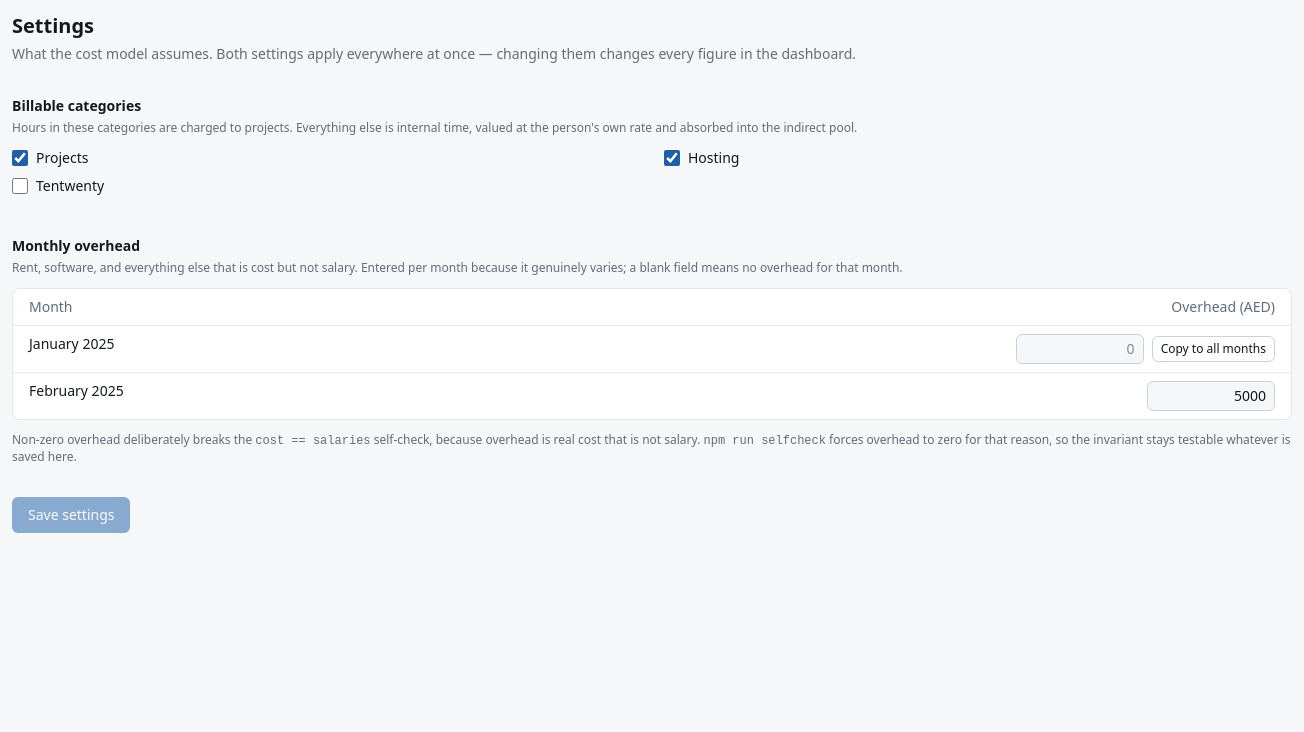
Test: saving › sends the unchecked category as an absence and confirms the save
What coordinates should you click on to do the following:
click the checkbox labelled "Hosting"
I would click on:
 (672, 158)
Its box is [664, 150, 680, 166].
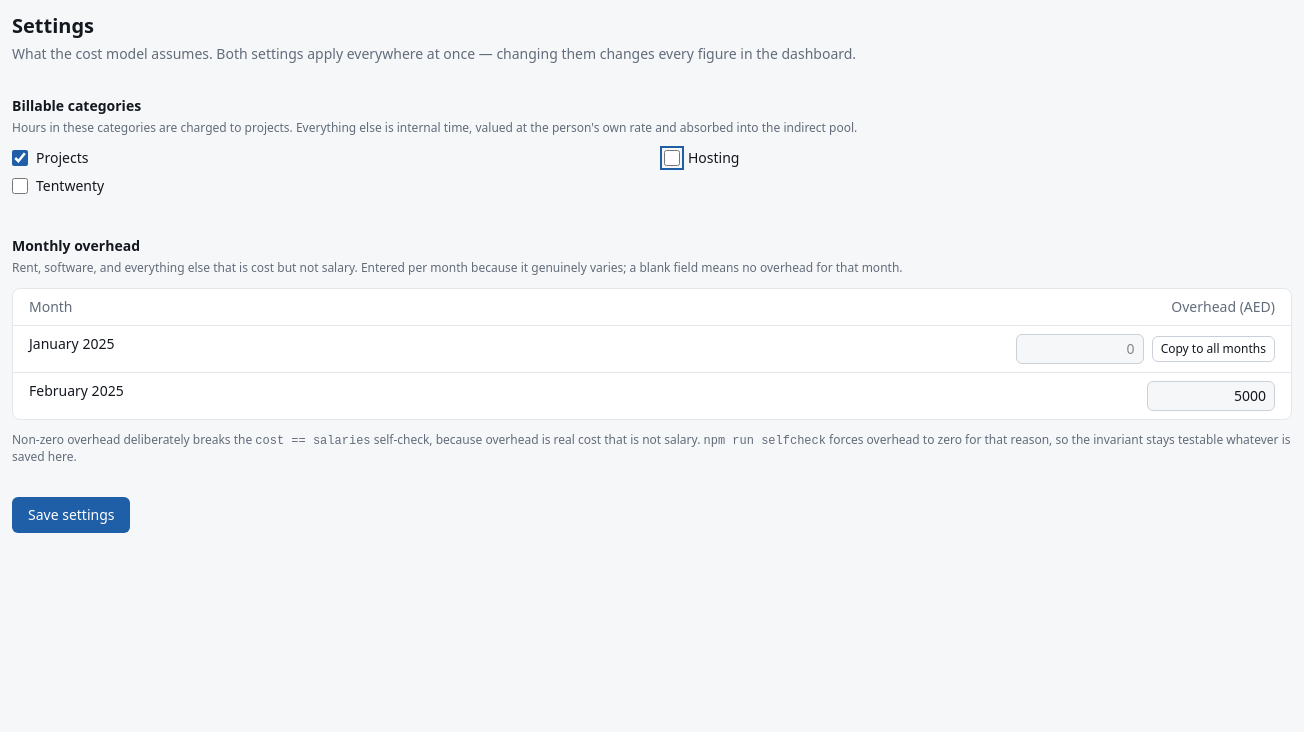
What coordinates should you click on to do the following:
click the button "Save settings"
I would click on:
 (71, 515)
Its box is [12, 497, 130, 533].
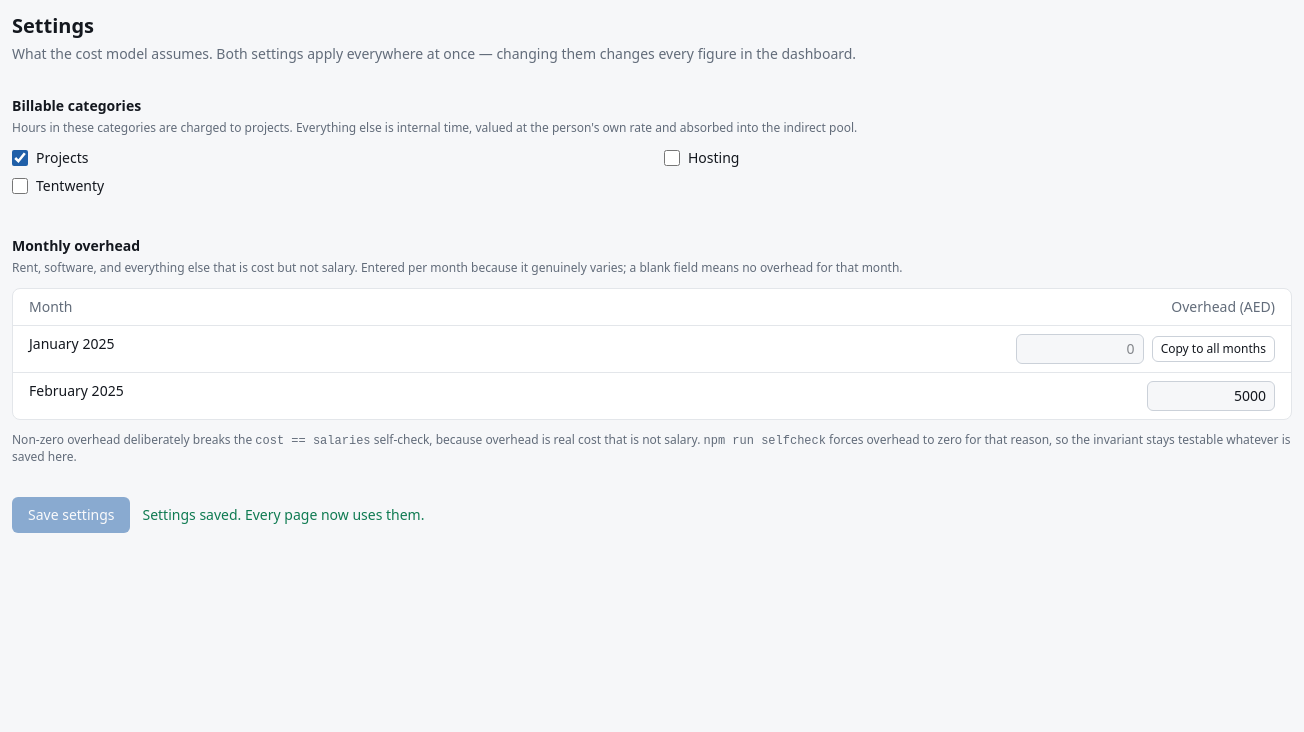
Now the text "Settings saved. Every page now uses them." is shown, box [142, 505, 424, 525]
Now the button "Save settings" is disabled, box [12, 497, 130, 533]
